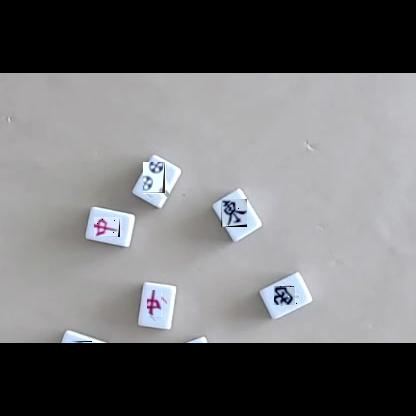1z: (221, 199, 247, 227)
2p: (144, 163, 170, 198)
3z: (275, 286, 299, 305), (70, 341, 92, 343)
7z: (95, 217, 125, 237), (148, 291, 167, 321)
